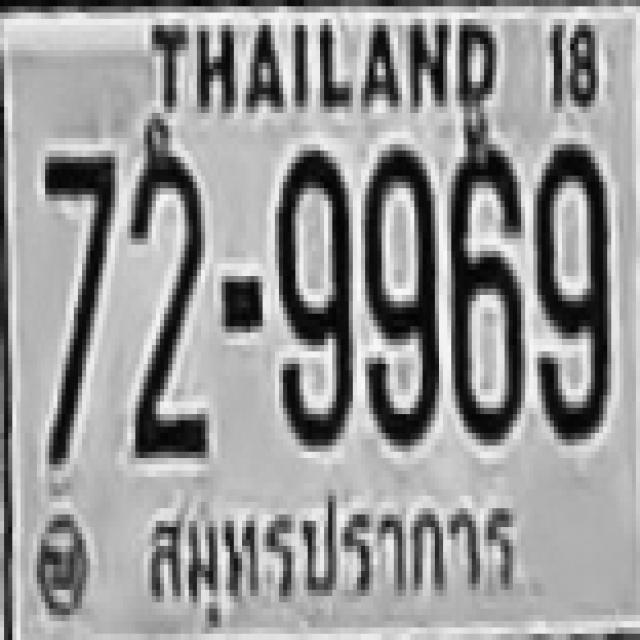0: (361, 144, 435, 440)
2: (127, 154, 205, 455), (125, 148, 203, 442)
6: (447, 138, 521, 439)
7: (41, 151, 111, 458), (43, 154, 113, 411), (43, 154, 113, 348)
9: (275, 144, 349, 446), (361, 144, 435, 440), (534, 138, 608, 433)
SamutPrakan: (138, 475, 529, 633)
